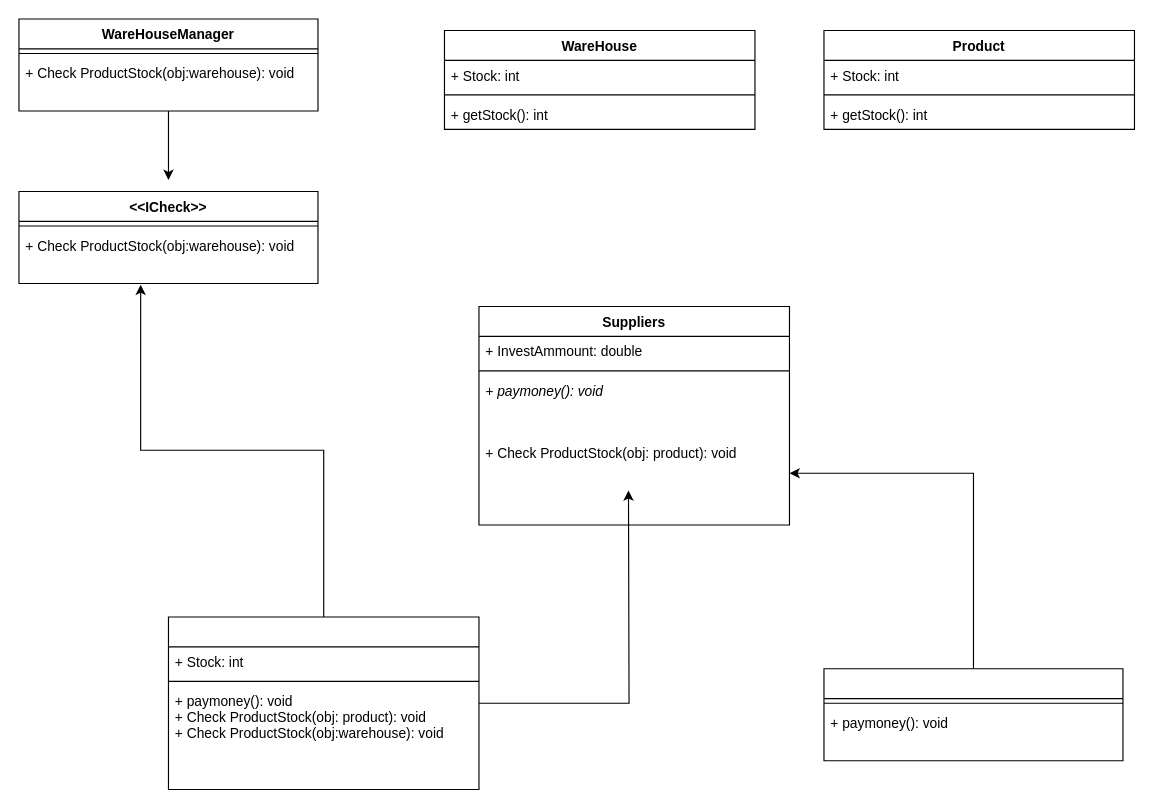
Some shapes in this 1153 by 808 pixel diagram are drawn without their labels. Each missing label, with the box of its shape:
ForeignSupplier: (823, 668, 1123, 761)
LocalSupplier: (167, 616, 479, 789)
